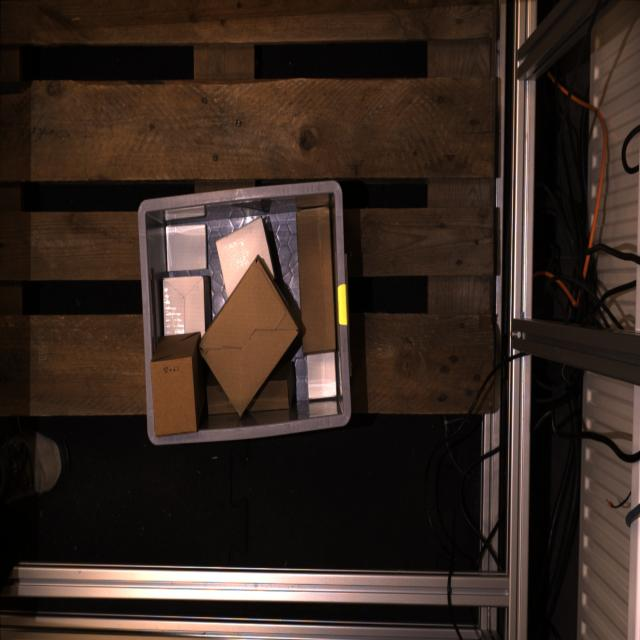CardboardBox: (198, 258, 298, 414), (150, 332, 207, 437), (298, 207, 336, 356), (216, 217, 274, 298), (162, 276, 212, 338), (247, 362, 296, 412), (166, 224, 207, 270), (307, 350, 337, 398), (208, 375, 238, 414)
